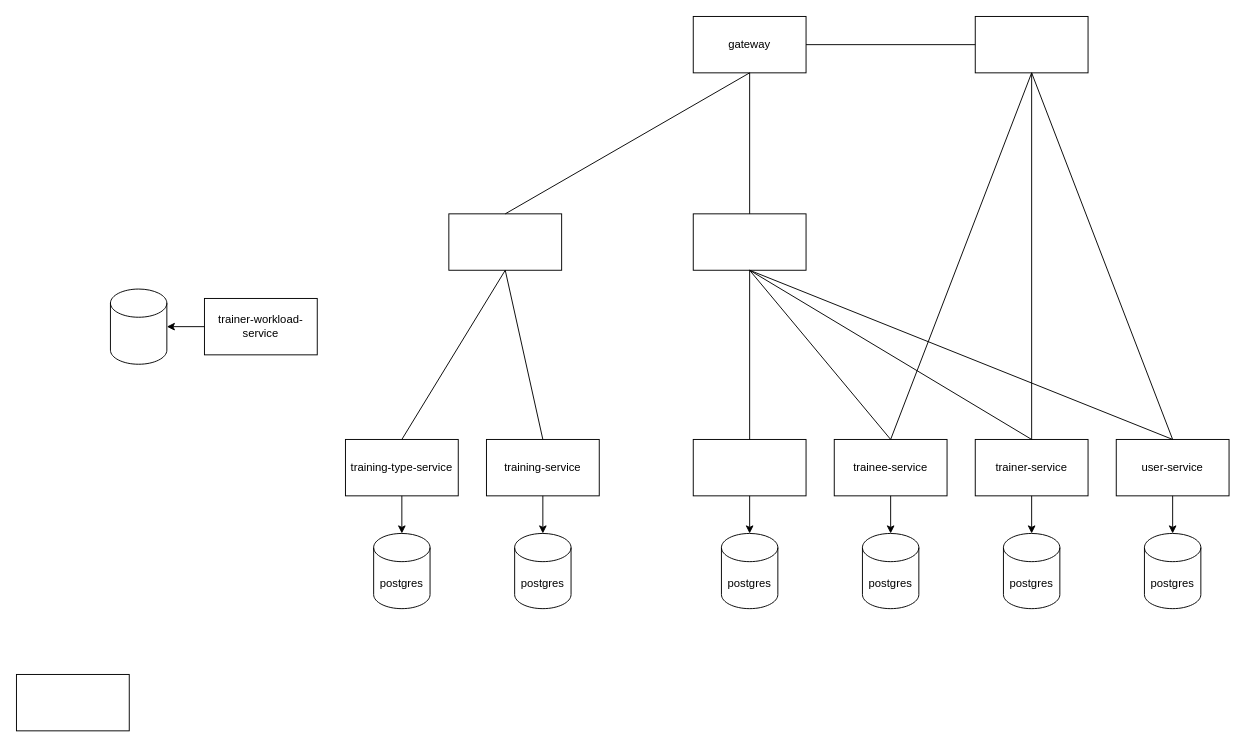
This 1246x747 diagram has some shape labels left out. The centre of each missing label's shape, as x and y in pixels:
"authentication-service" goes at point (1031, 44).
"mongoDB" goes at point (138, 326).
"service-registry" goes at point (72, 702).
"trainee-trainer-relationship-service" goes at point (749, 467).
"training-orchestration-service" goes at point (505, 241).
"user-orchestration-service" goes at point (749, 241).
